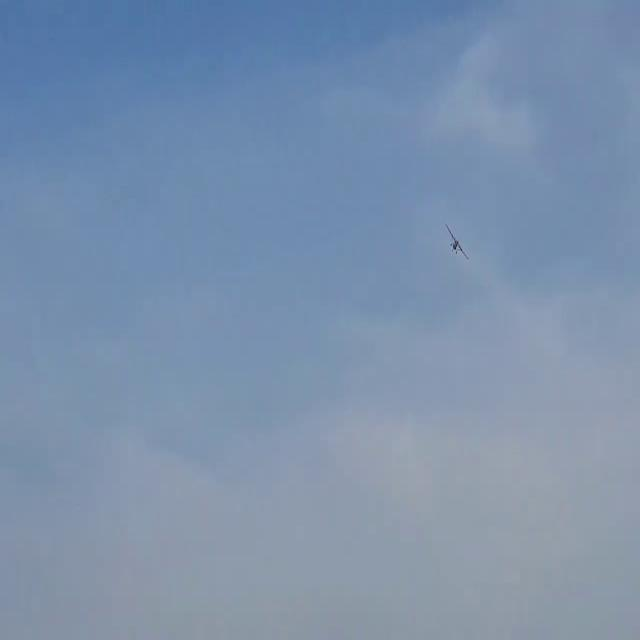iha: (438, 220, 463, 262)
